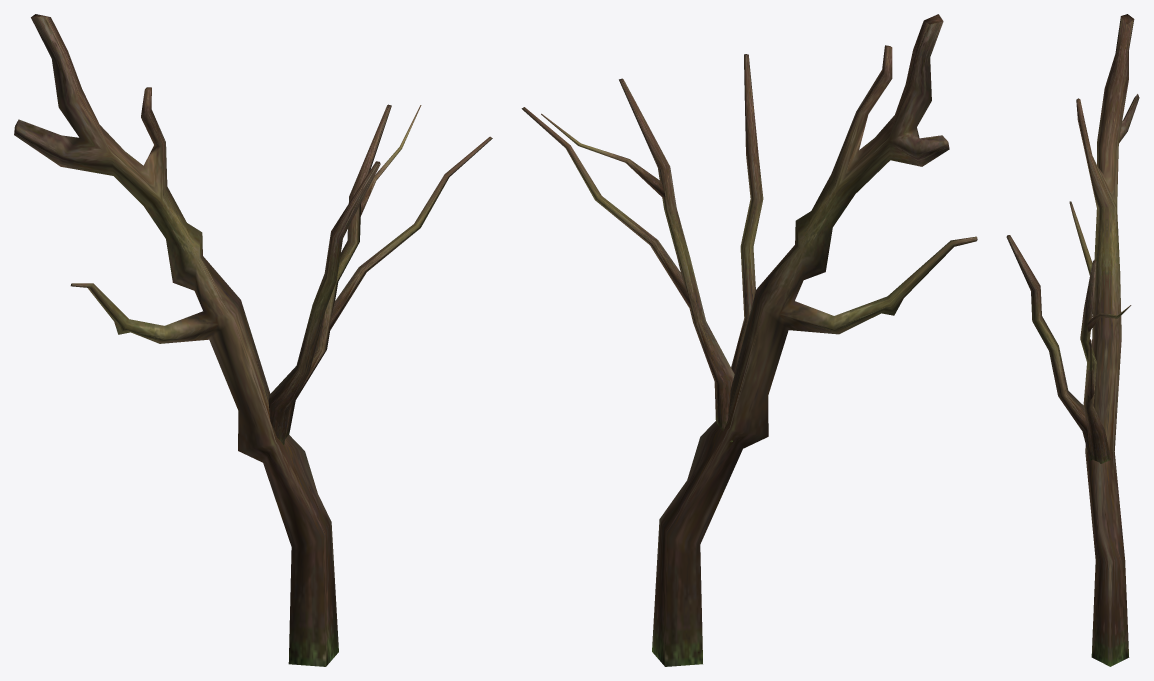
Rendered from zshh_shugan_01.FBX.
3 renders of one model, left to right at view 1: azimuth 30°, elevation 25°; view 2: azimuth 150°, elevation 25°; view 3: azimuth 270°, elevation 25°, orthographic. The views are drawn at different scales.
Visible parts, largest first — view 1: zshh_shugan_01; view 2: zshh_shugan_01; view 3: zshh_shugan_01.
Boxes of the visible parts, bbox=[...] form: zshh_shugan_01: bbox=[14, 14, 492, 666]; zshh_shugan_01: bbox=[521, 14, 977, 666]; zshh_shugan_01: bbox=[1006, 14, 1139, 666].
Bounding box in the file's own units: 198 × 65.49 × 294.
